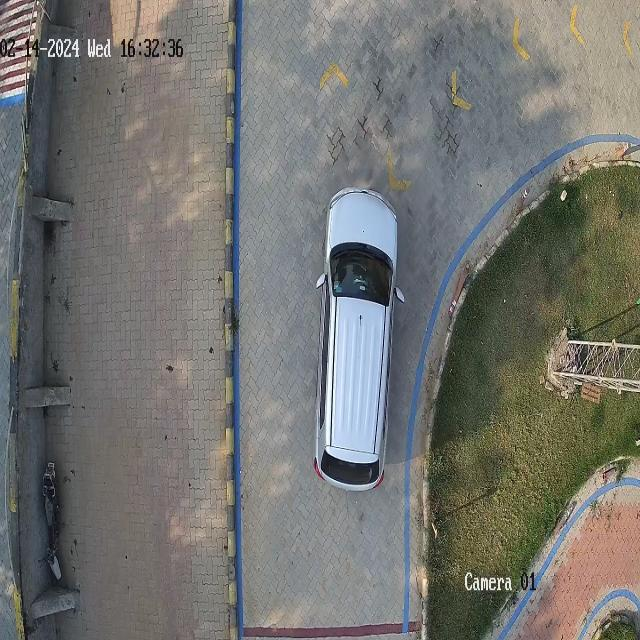car: (314, 187, 404, 491)
